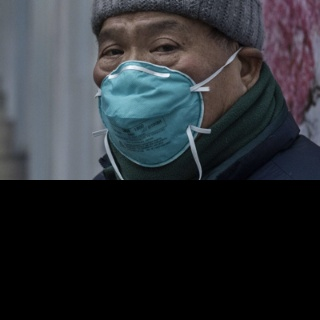with_mask: (94, 15, 236, 147)
